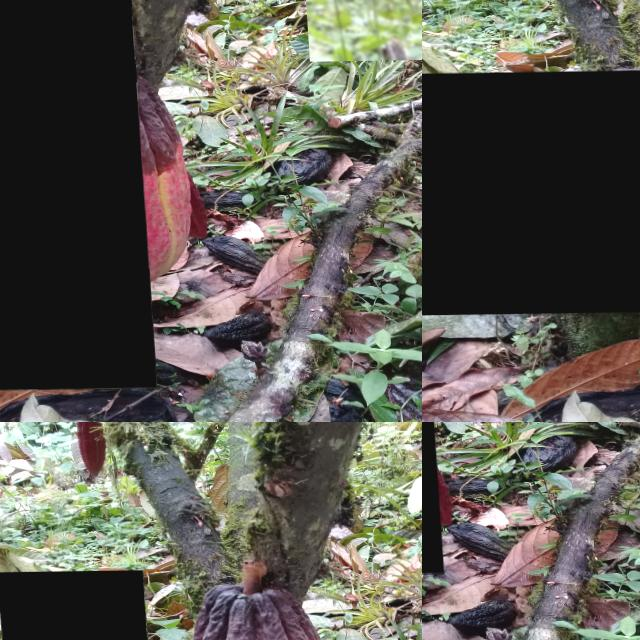Fitoftora: (0, 0, 149, 392), (422, 68, 640, 316), (0, 570, 152, 640)
Sana: (295, 0, 422, 63)
